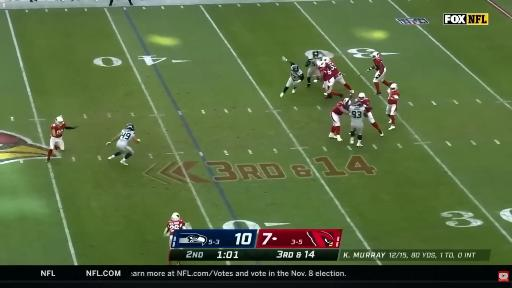Helmet: (319, 56, 330, 67), (171, 212, 181, 221), (317, 58, 326, 67), (312, 51, 320, 59), (291, 65, 299, 73), (343, 98, 351, 106), (358, 92, 366, 100), (372, 52, 380, 59), (56, 116, 63, 124), (126, 124, 134, 131), (390, 83, 397, 90), (322, 56, 330, 62), (354, 102, 362, 107)
Jersey: (349, 106, 365, 127), (118, 130, 135, 146), (167, 220, 185, 235), (326, 61, 340, 78), (51, 123, 66, 138), (332, 101, 345, 116), (320, 67, 333, 81), (358, 98, 371, 112), (373, 58, 385, 73), (291, 66, 303, 81), (388, 91, 399, 104), (306, 59, 318, 68)
Player: (46, 116, 77, 162), (107, 124, 140, 165), (356, 93, 383, 136), (367, 52, 392, 95), (164, 213, 186, 258), (318, 57, 342, 98), (280, 57, 304, 97), (326, 60, 354, 94), (329, 98, 351, 141), (349, 102, 365, 146), (306, 51, 322, 87), (387, 84, 399, 130)
